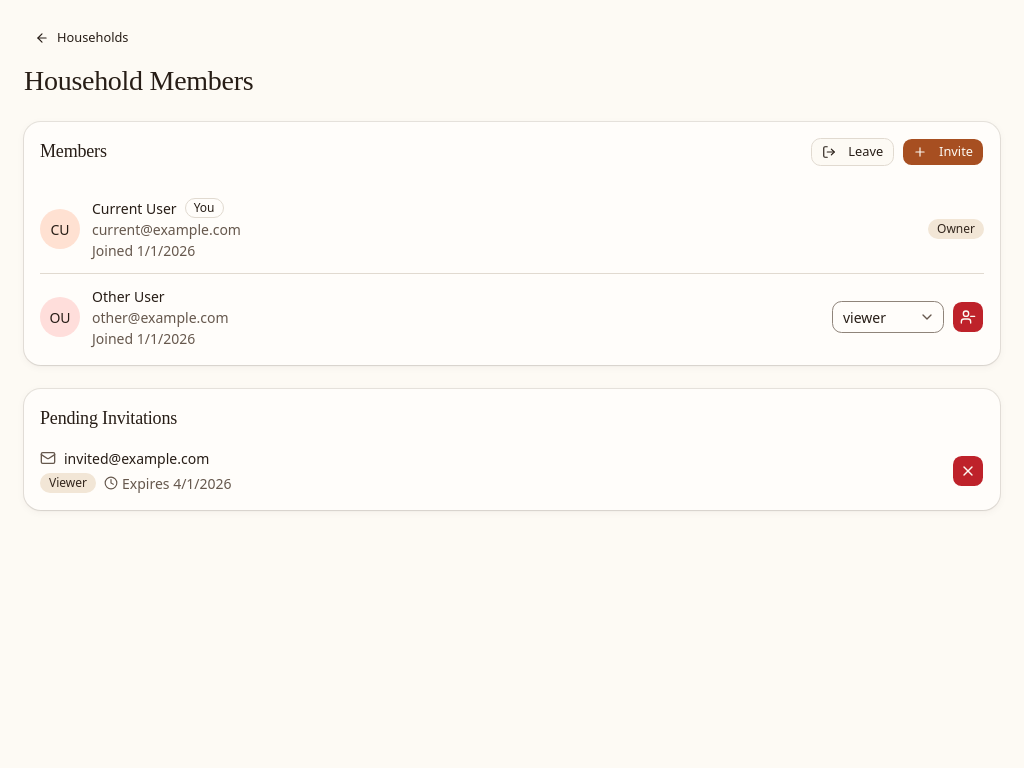
Test case: HouseholdMembersPage › names the revoke invitation button
Click the button named "Revoke invitation for invited@example.com": [968, 471] box top-left (952, 455), bottom-right (984, 487)
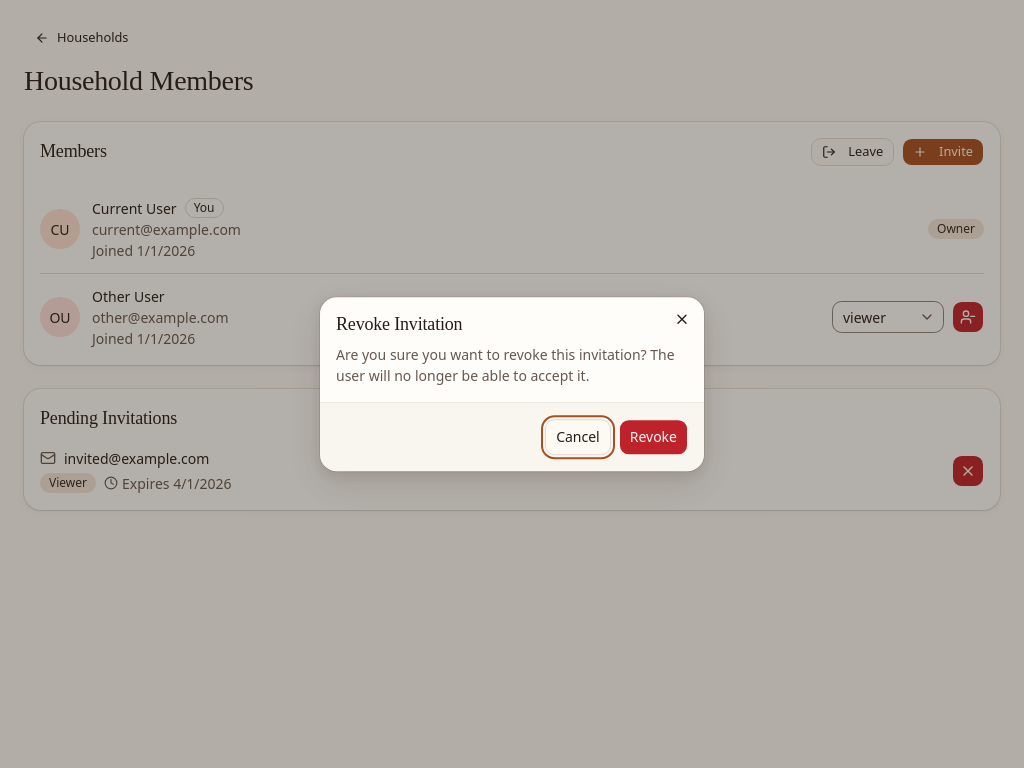
Now the dialog "Revoke Invitation" is shown, box top-left (320, 297), bottom-right (704, 471)
